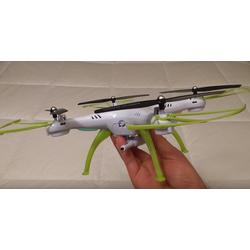drone: (1, 82, 250, 183)
